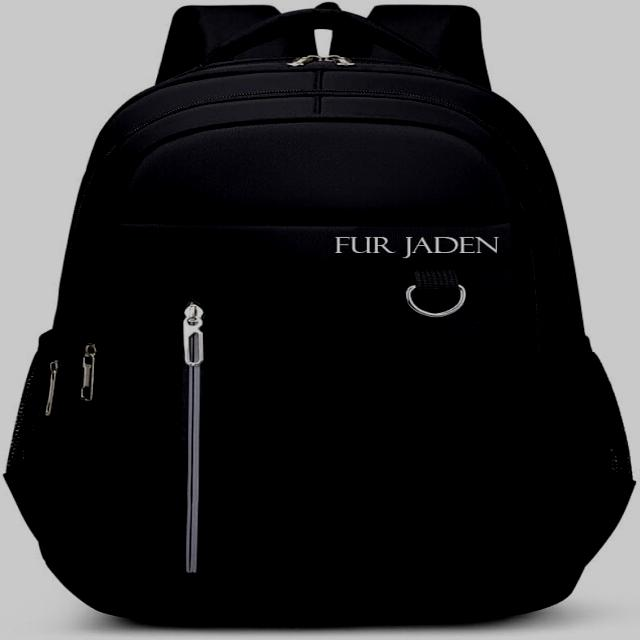backpack: (4, 3, 636, 625)
